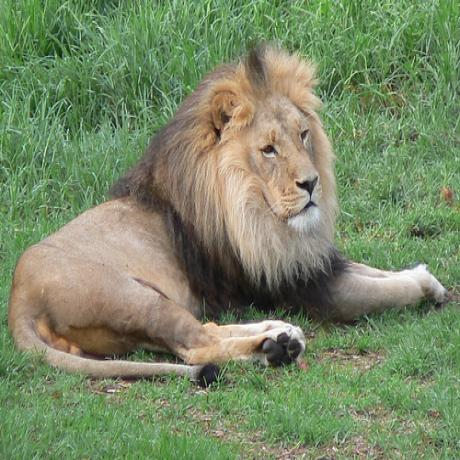Lion: (8, 36, 444, 395)
